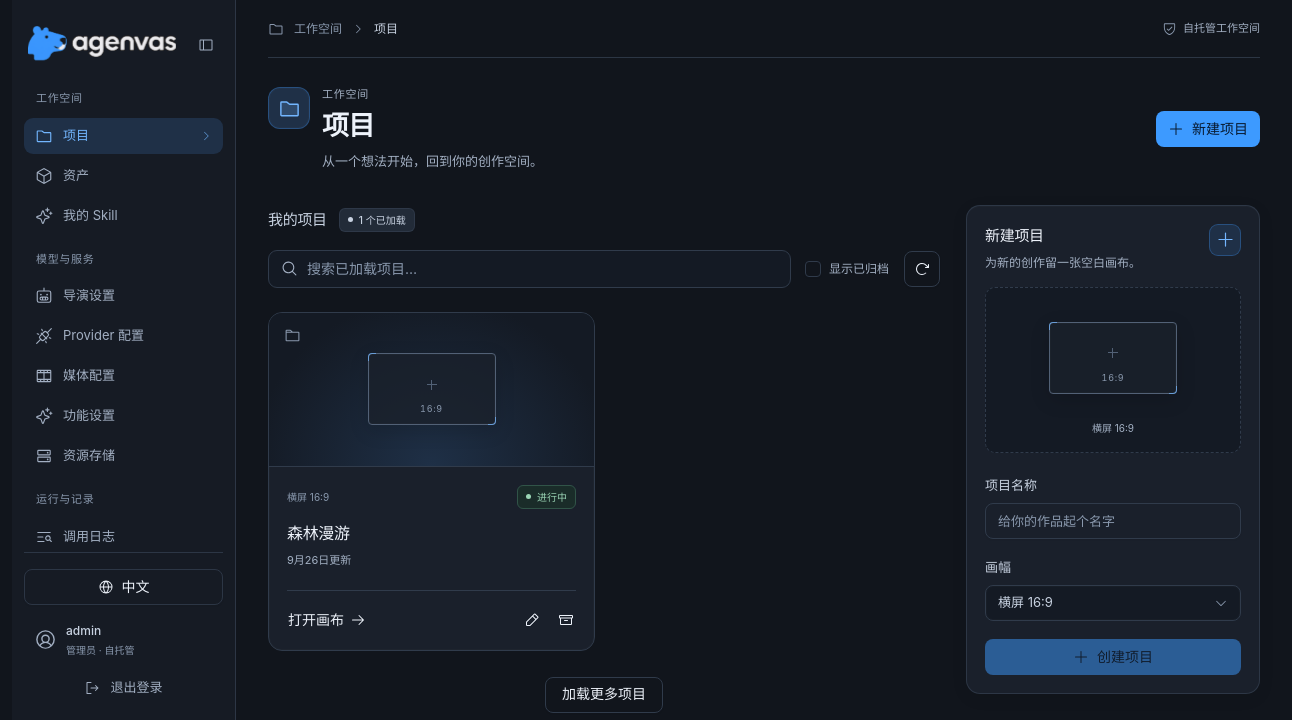
Test: ProjectsPage › searches loaded projects and loads the next server cursor
Expected: the element "森林漫游" is shown, [268, 312, 595, 650]
Type "城市" into the search field labelled "搜索已加载项目" at (542, 269), box [307, 251, 778, 287]
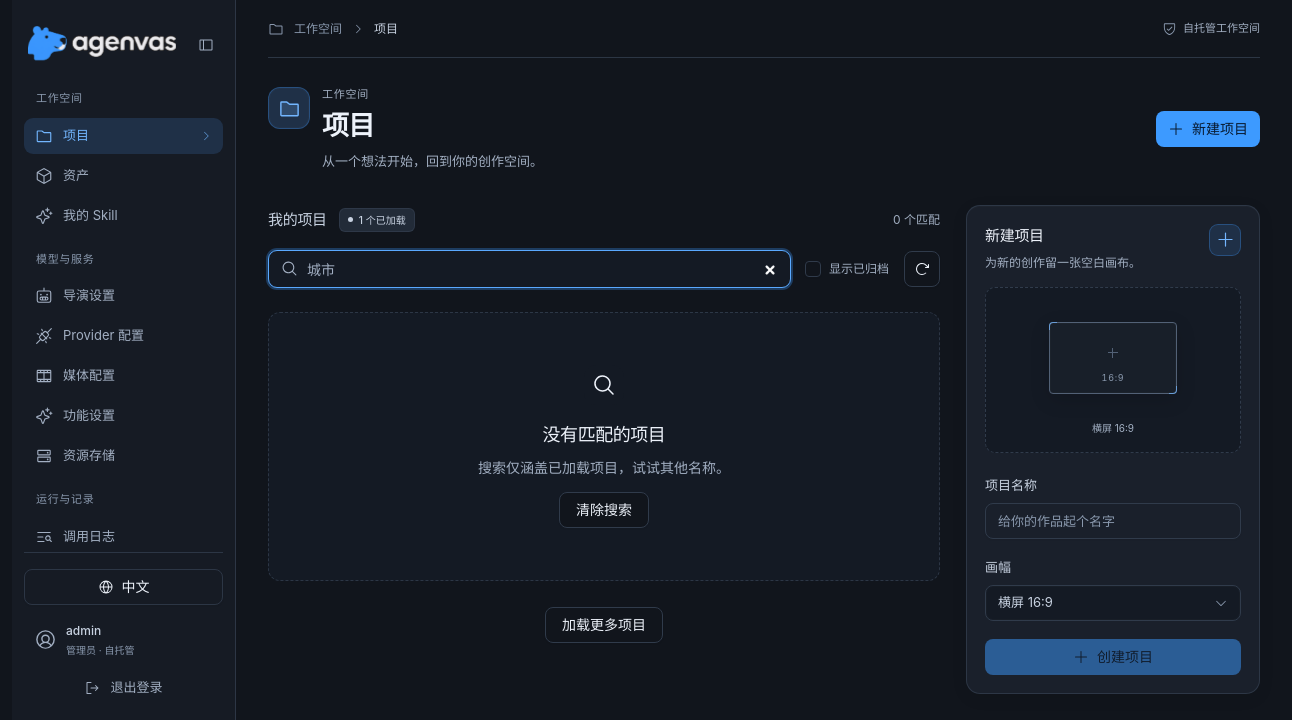
Expected: the text "没有匹配的项目" is shown, [543, 421, 666, 449]
Click the button "加载更多项目" at (604, 625), box [545, 607, 663, 643]
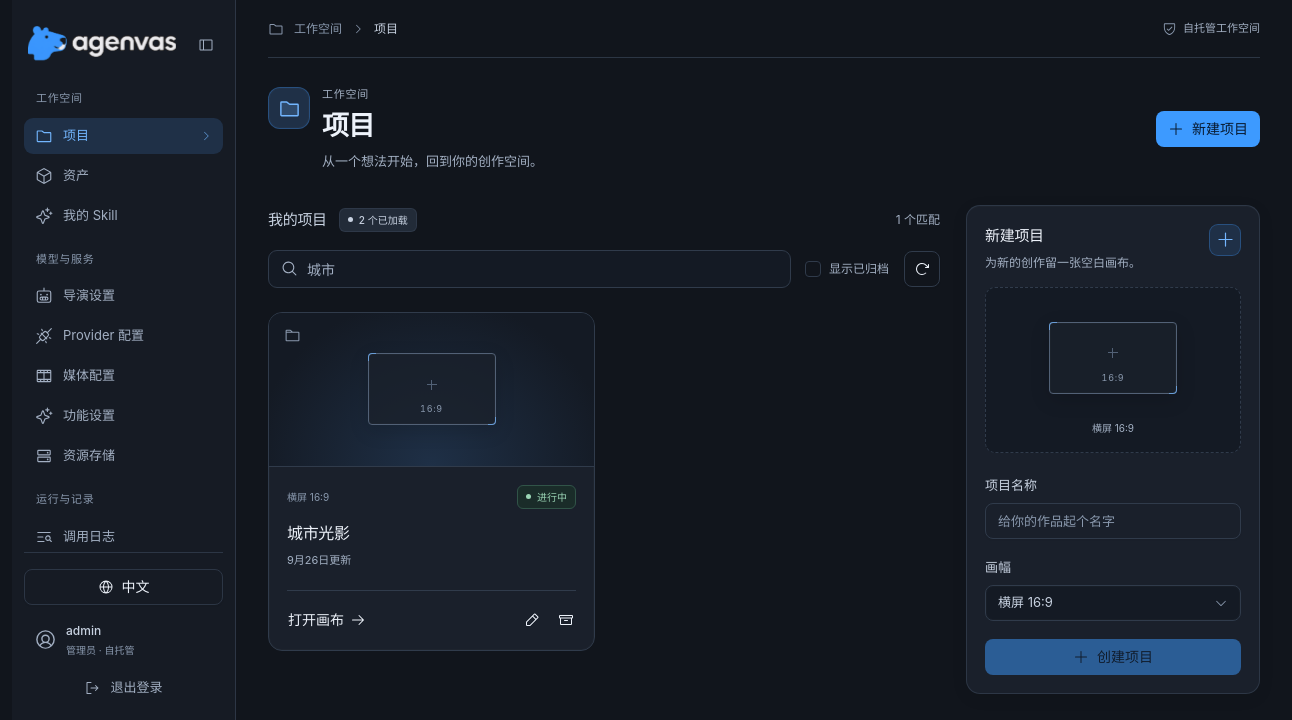
Expected: the heading "森林漫游" is not shown
Expected: the element "城市光影" is shown, [268, 312, 595, 650]
Expected: the text "2 个已加载" is shown, [339, 208, 417, 232]
